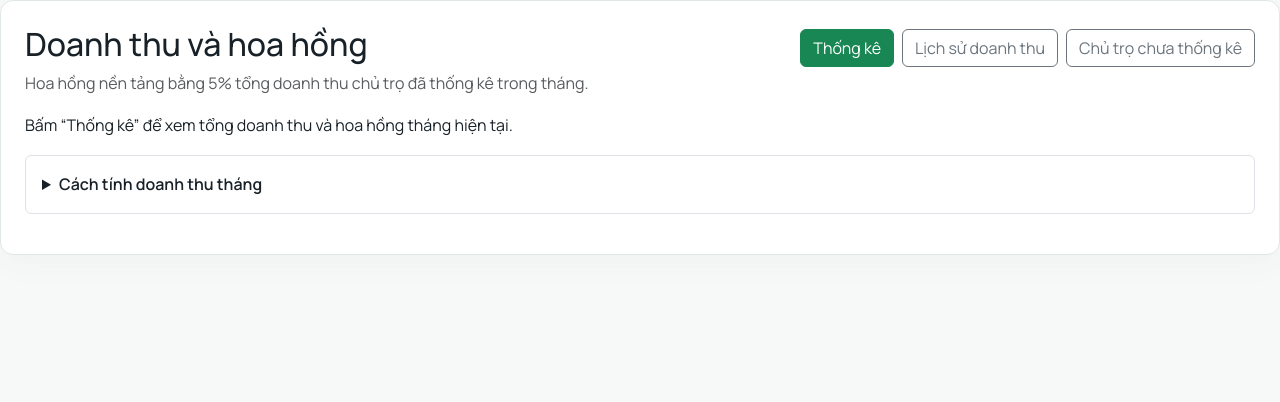
Test case: revenue overview › shows missing owners and sends a reminder only when clicked
Click the button "Chủ trọ chưa thống kê" at (1160, 48), box [1066,29,1255,67]
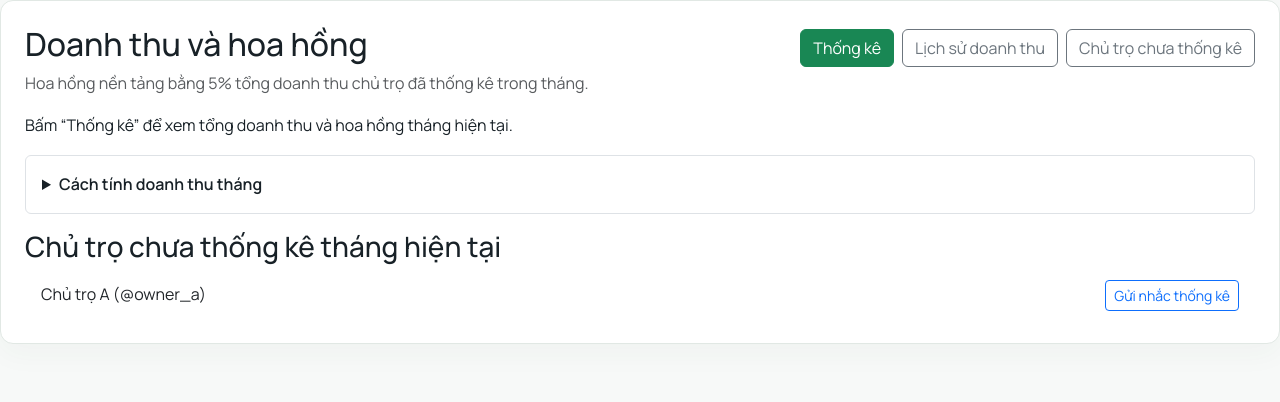
Result: the text "Chủ trọ A" is shown at [41,284,110,306]
Click the button "Gửi nhắc thống kê" at (1172, 295), box [1105,280,1239,311]
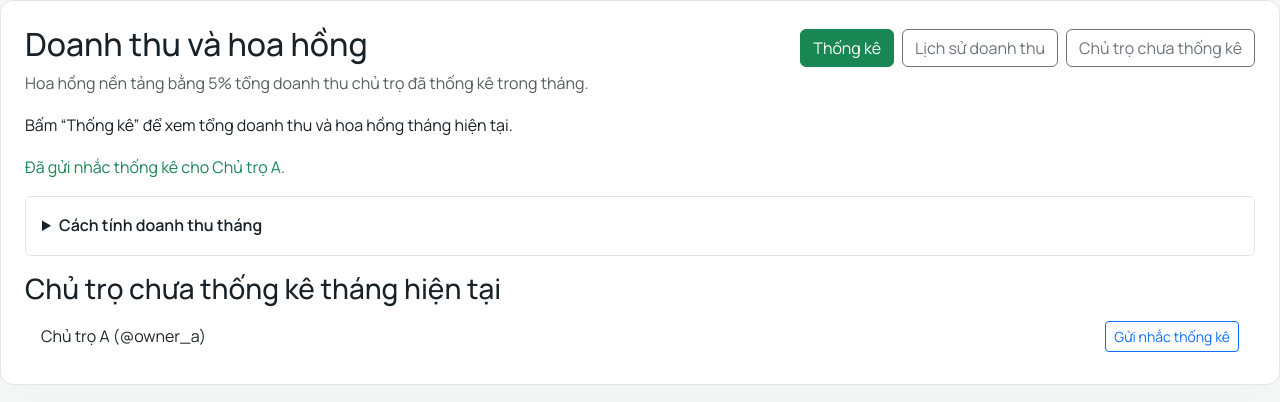
Result: the text "Đã gửi nhắc thống kê" is shown at [25,156,285,178]
